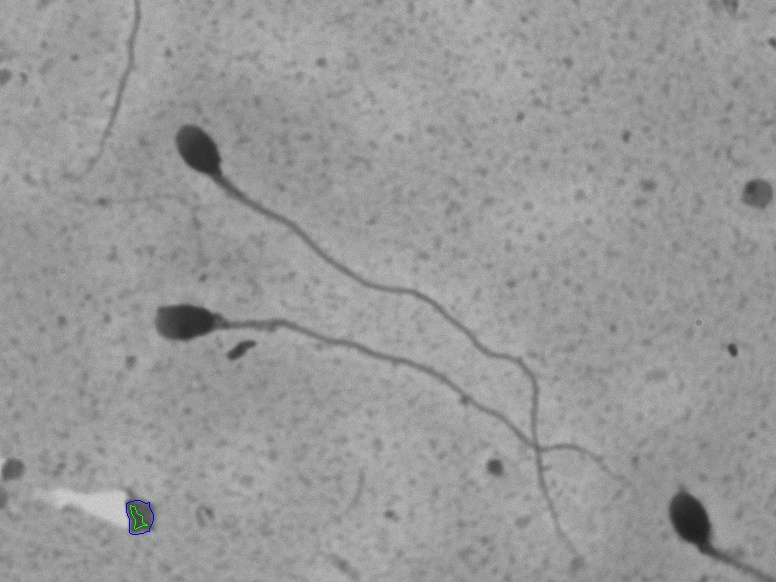Normal: (159, 108, 588, 559), (138, 291, 648, 499)
